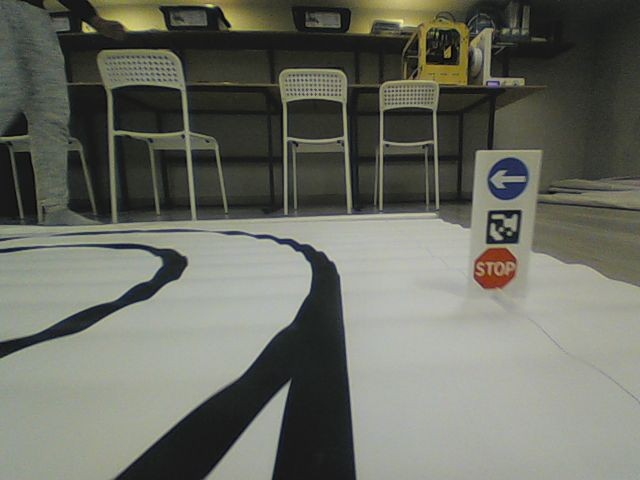Stop: (472, 246, 518, 291)
